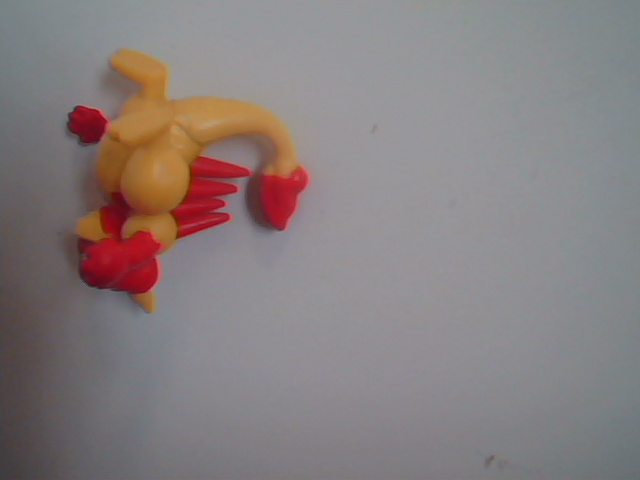magmar: (35, 20, 408, 388)
